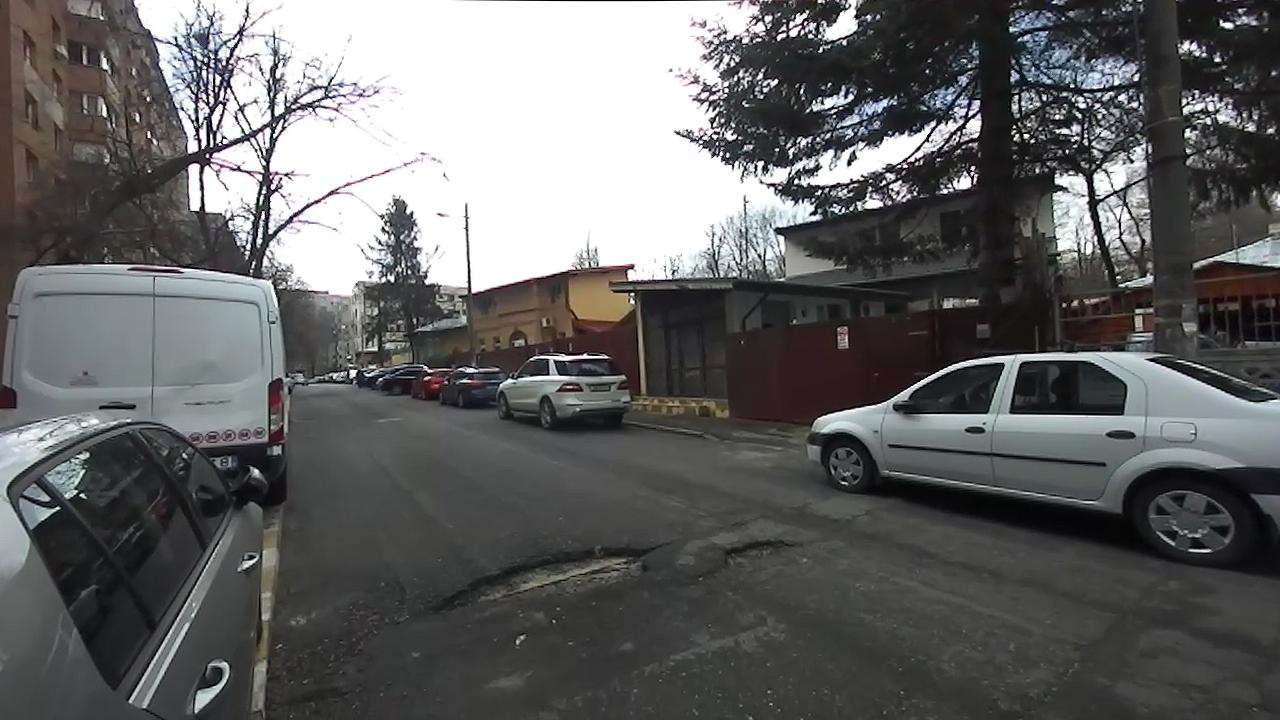pothole: (419, 539, 660, 626), (710, 533, 799, 572)
